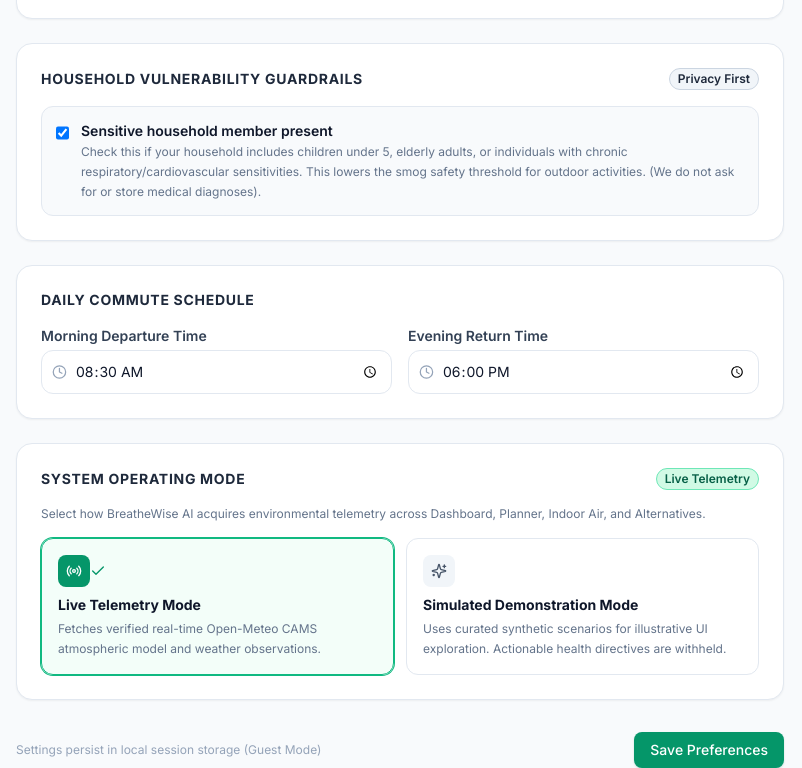
Test: Phase 7.6 — Mode Controls & Final Integration › 3. SettingsPage Mode Controls & Carry-Forward Bug Resolution › 3.2 Guest user saving in SettingsPage persists locally and never writes to Firestore
The width and height of the screenshot is (802, 768).
(page scrolled)
Check: the text "Settings persist in local session storage (Guest Mode)" is shown, box [16, 742, 321, 757]
Click the button with test id "save-preferences-button".
click(709, 750)  # box [634, 732, 784, 767]
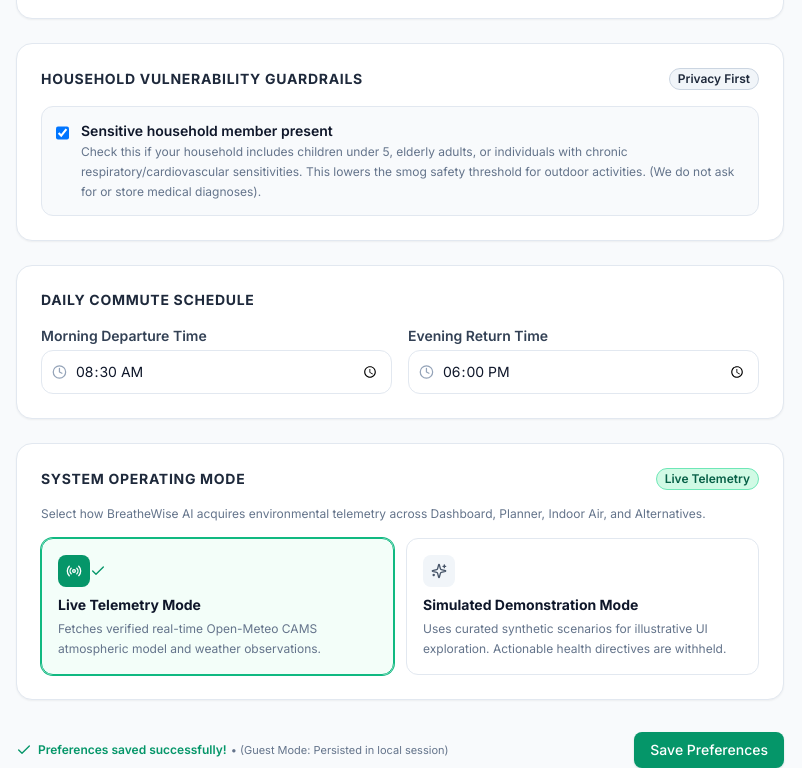
Check: the text "Preferences saved successfully!" is shown, box [16, 742, 227, 758]
Check: the text "• (Guest Mode: Persisted in local session)" is shown, box [231, 742, 448, 758]
